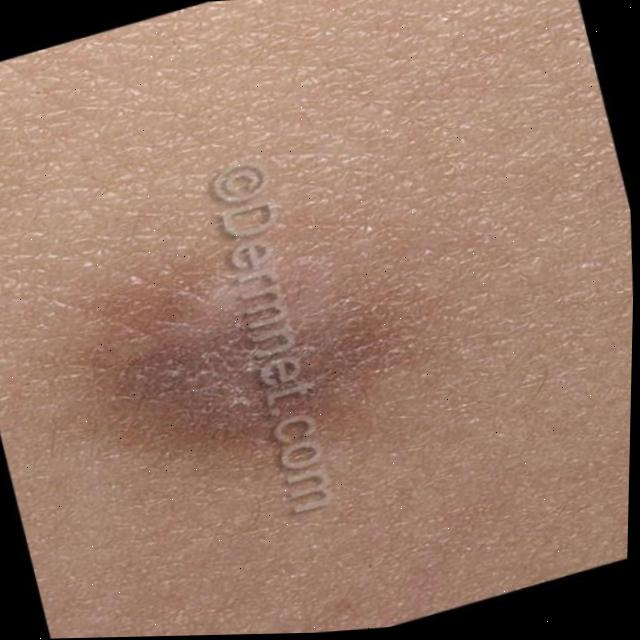Eczema: (160, 271, 363, 440)
